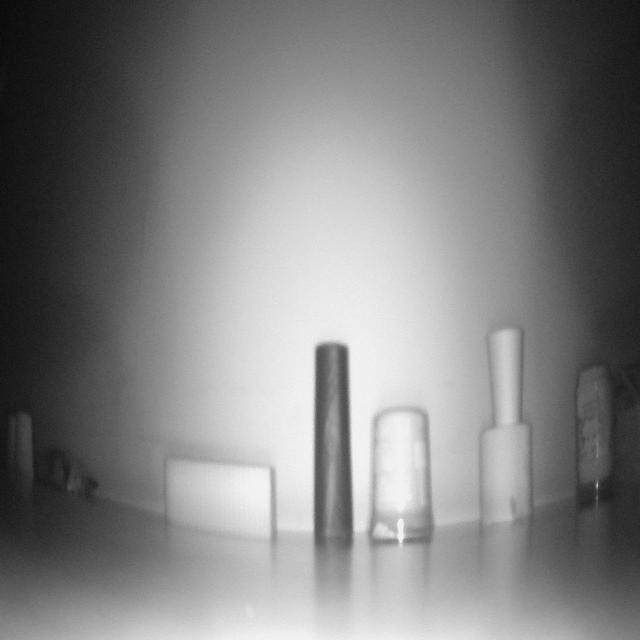targets: (368, 404, 432, 544), (162, 461, 278, 538), (313, 339, 350, 546), (572, 360, 616, 512), (479, 430, 535, 526), (610, 348, 640, 494), (41, 443, 104, 502), (491, 325, 526, 425), (5, 406, 39, 484)
